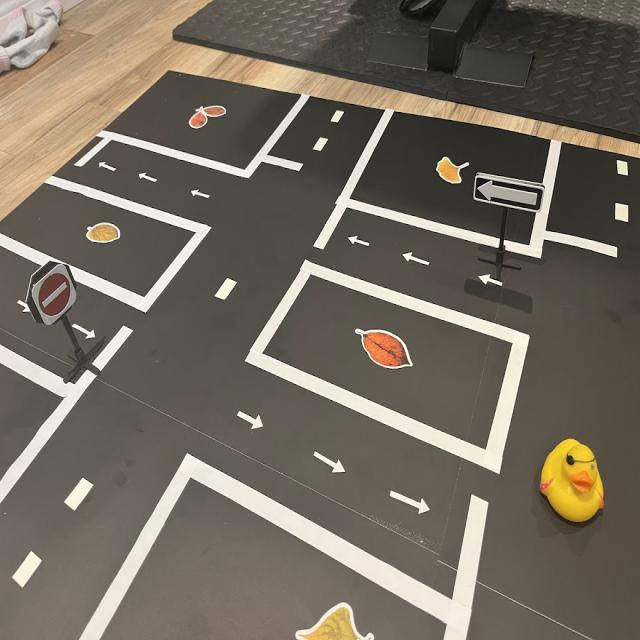duck_specialty: (537, 438, 613, 533)
road_oneway: (390, 484, 434, 520), (311, 447, 351, 479), (236, 409, 267, 434), (401, 250, 433, 269), (73, 321, 98, 344), (477, 269, 504, 290), (348, 233, 372, 252), (16, 297, 35, 318), (139, 170, 160, 187), (190, 188, 213, 203), (98, 160, 118, 174)
sign_noentry: (31, 262, 81, 330)
sign_oneway_left: (475, 176, 547, 214)
